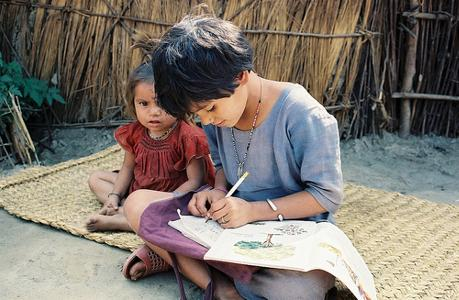person: (123, 17, 346, 299)
